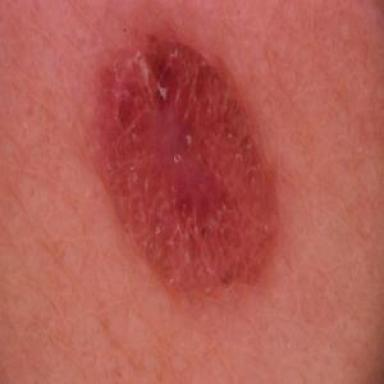Melanoma: (94, 31, 269, 287)
